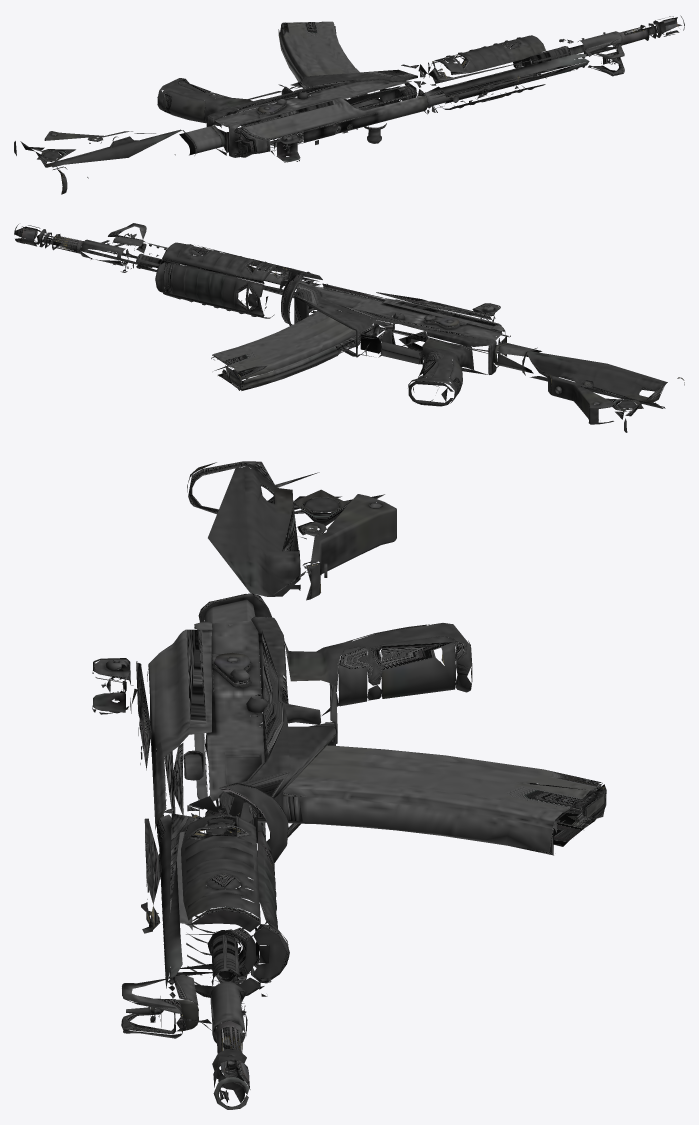
The model's file is w_galil.glb.
3 views of the same model, one above another, from view 1: azimuth 30°, elevation 25°; view 2: azimuth 150°, elevation 25°; view 3: azimuth 270°, elevation 25° (orthographic). The views are drawn at different scales.
Parts seen in each view (by area): view 1: w_galil; view 2: w_galil; view 3: w_galil.
Boxes of the visible parts, <box> form: w_galil: <box>14,15,684,194</box>; w_galil: <box>14,223,684,432</box>; w_galil: <box>92,461,606,1109</box>.
Bounding box in the file's own units: 1.13 × 0.1045 × 0.4014.
1 material, 1 textured.
